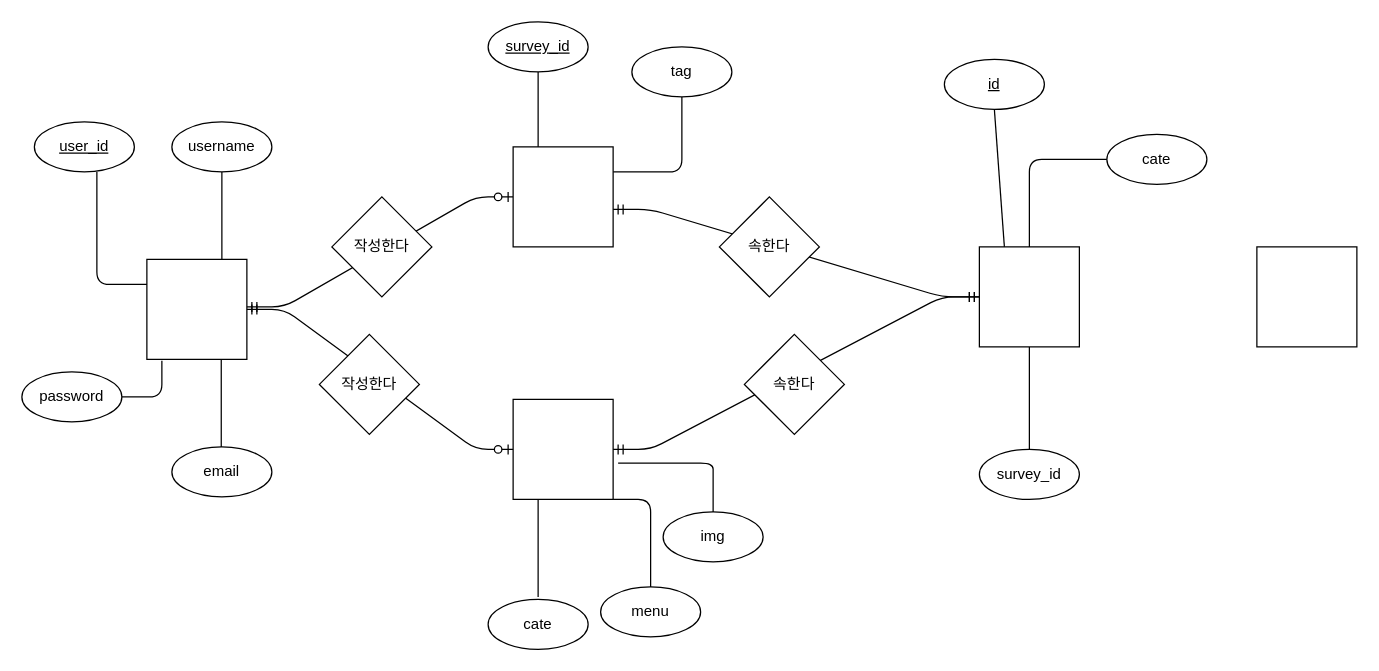
Some shapes in this 1379 by 671 pixel diagram are drawn without their labels. The shapes that lost their labels are listed below. From the top down, each one's centre as x and y in pixels, then its label:
At (x=562, y=196): "survey_tag".
At (x=196, y=308): "user".
At (x=1028, y=296): "Survey_ outcome".
At (x=1306, y=296): "Restaurant".
At (x=562, y=448): "survey_cate".
